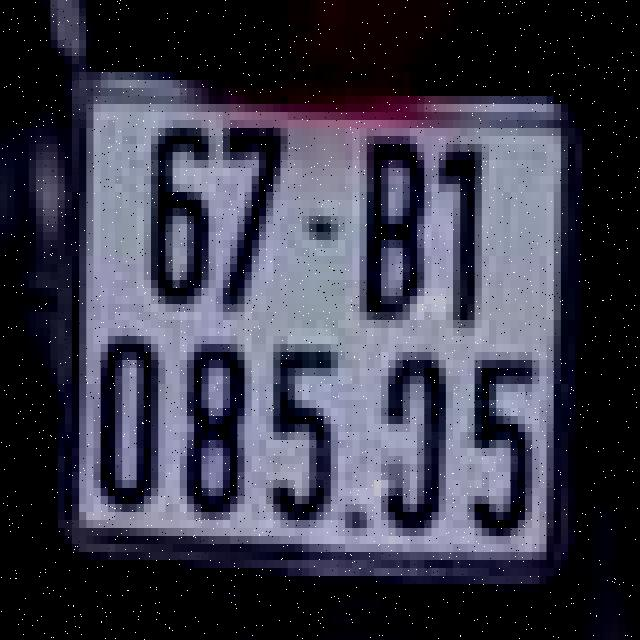0: (97, 304, 176, 512), (384, 340, 456, 548)
1: (428, 124, 507, 340)
5: (255, 324, 342, 532), (460, 348, 540, 556)
6: (133, 116, 219, 324)
7: (220, 116, 292, 340)
8: (180, 332, 252, 524)
B: (352, 120, 439, 336)
